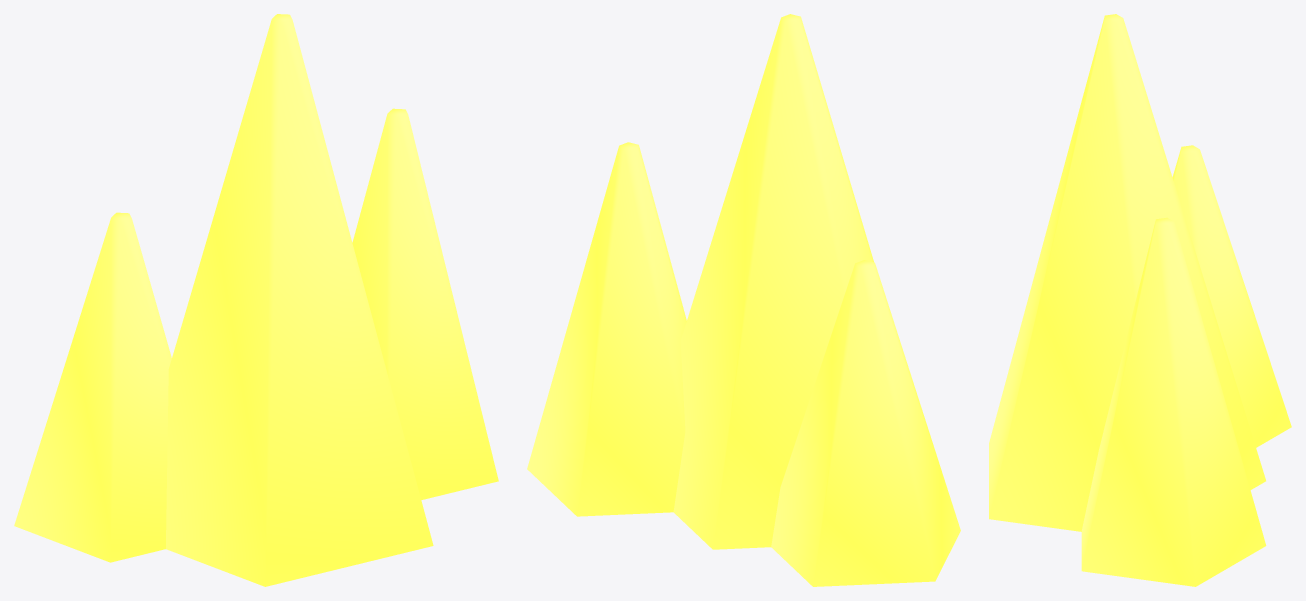
The model's file is resource.glb.
3 renders of one model, left to right at view 1: azimuth 30°, elevation 25°; view 2: azimuth 150°, elevation 25°; view 3: azimuth 270°, elevation 25°, orthographic. The views are drawn at different scales.
Visible parts, largest first — view 1: Resource; view 2: Resource; view 3: Resource.
Boxes of the visible parts, bbox=[...] form: Resource: bbox=[14, 14, 498, 586]; Resource: bbox=[527, 14, 960, 586]; Resource: bbox=[989, 14, 1291, 586].
Bounding box in the file's own units: 0.9304 × 1 × 0.5927.
